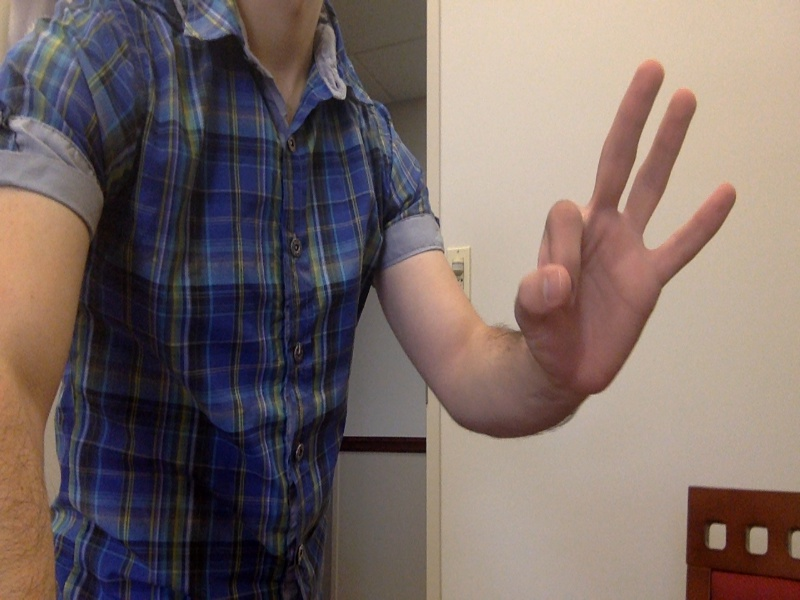3-hand: (515, 57, 739, 398)
